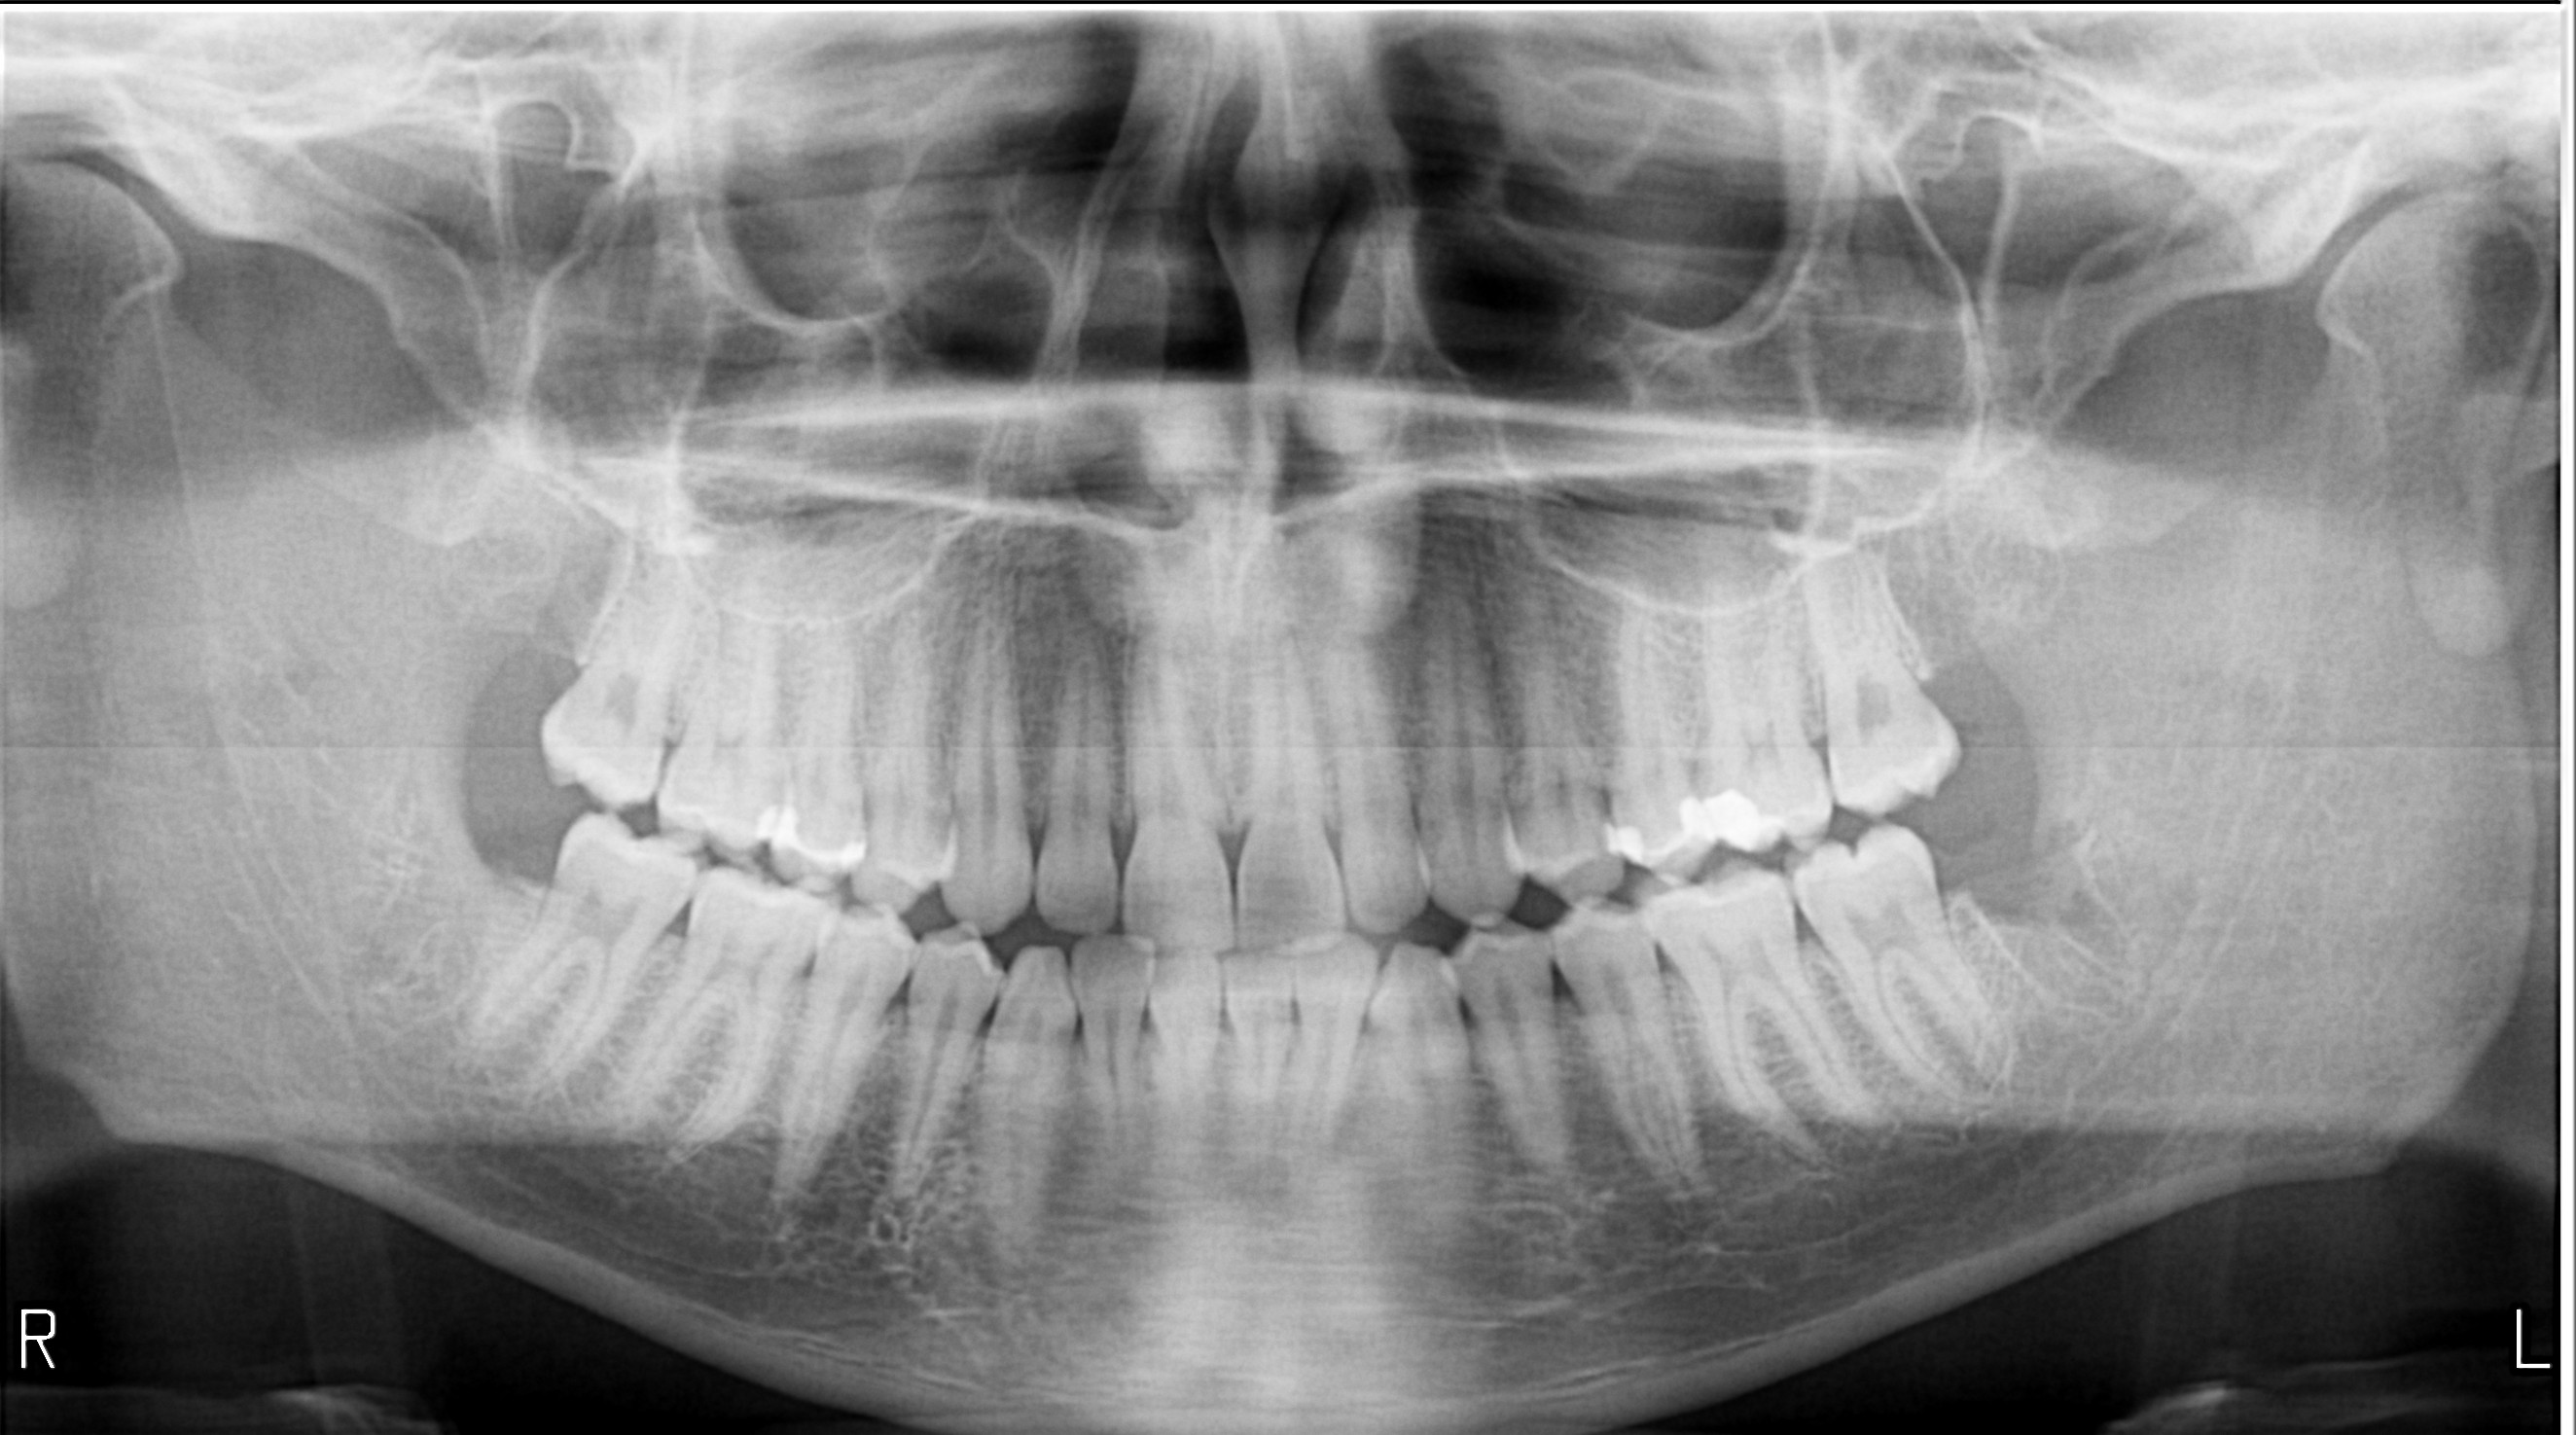OBT: (1691, 758, 1797, 854), (1592, 806, 1663, 892), (1654, 772, 1719, 854), (735, 795, 795, 852)
